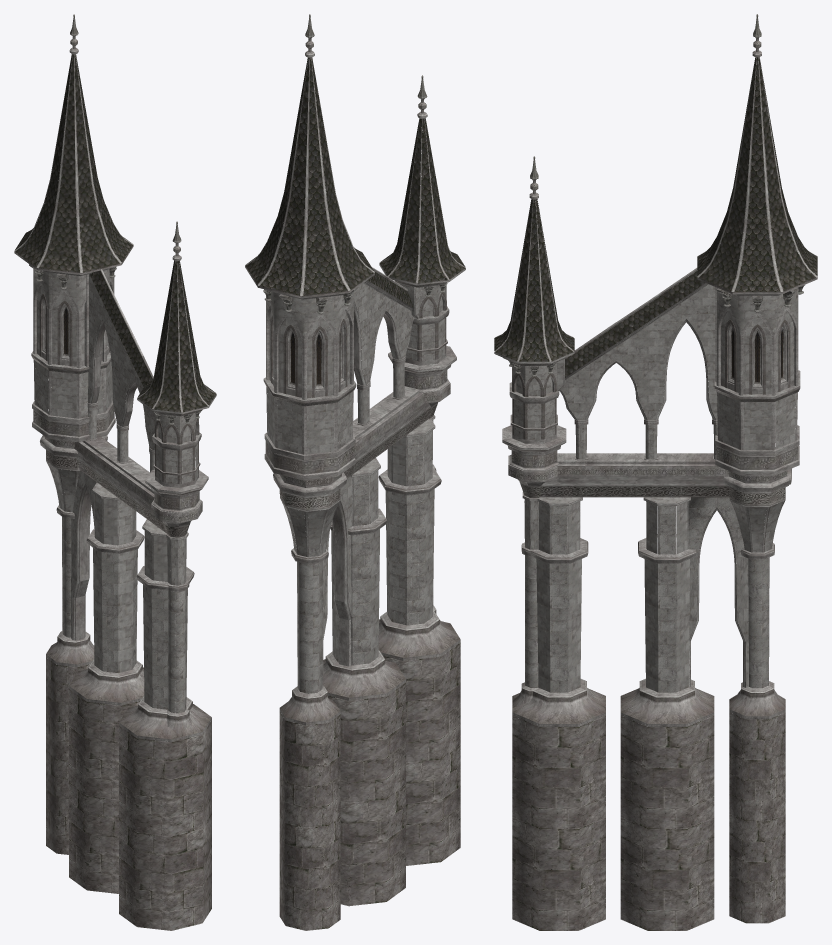
File: eso_ss1_spires-transformed.glb
The picture shows the model from 3 angles, left to right: view 1: azimuth 30°, elevation 25°; view 2: azimuth 150°, elevation 25°; view 3: azimuth 270°, elevation 25°; orthographic projection. The views are drawn at different scales.
Visible parts, largest first — view 1: default; view 2: default; view 3: default.
Part boxes in pixels (x1,y1,x2,y2): default: (14, 14, 216, 930); default: (245, 14, 465, 930); default: (494, 14, 817, 930).
Size of the model in its own units: 10.05 by 82.7 by 27.01.
Materials: 5 (5 with a texture image).
